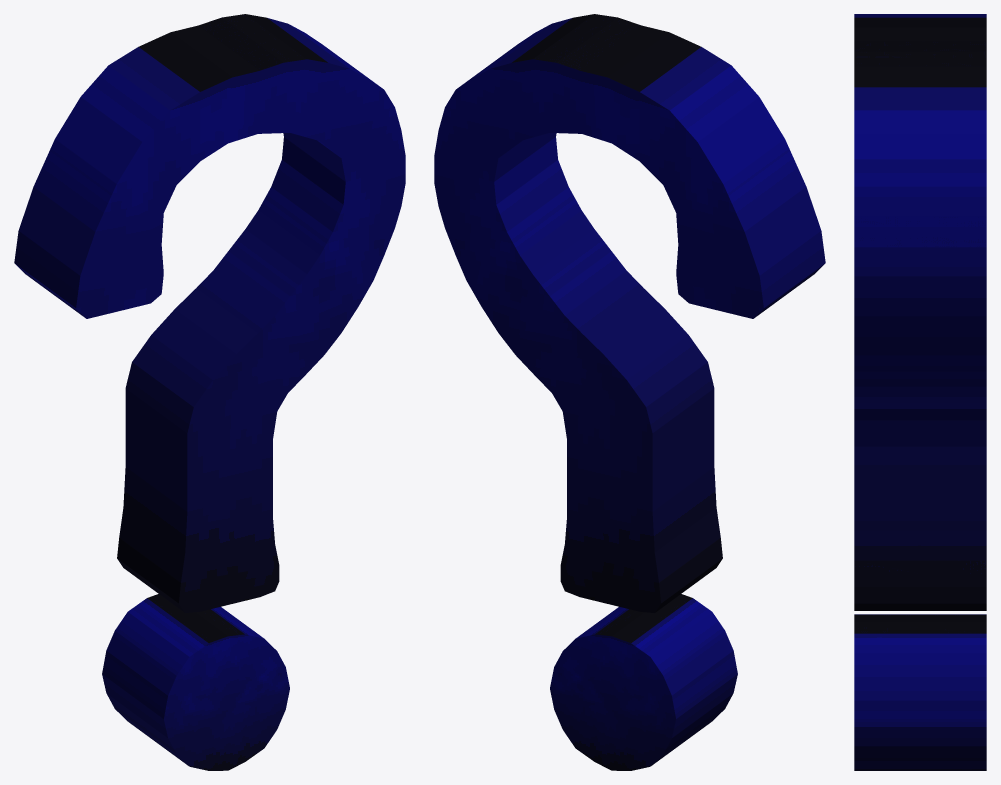
Rendered from options.glb.
The picture shows the model from 3 angles, left to right: view 1: azimuth 30°, elevation 25°; view 2: azimuth 150°, elevation 25°; view 3: azimuth 270°, elevation 25°; orthographic projection. The views are drawn at different scales.
Visible parts, largest first — view 1: Mesh_0; view 2: Mesh_0; view 3: Mesh_0.
Boxes of the visible parts, box(x1,y1,x2,y2) form: Mesh_0: box(14, 14, 405, 770); Mesh_0: box(434, 14, 825, 770); Mesh_0: box(854, 14, 986, 770).
Size of the model in its own units: 1.45 by 2.91 by 0.4695.
1 material, 1 textured.
